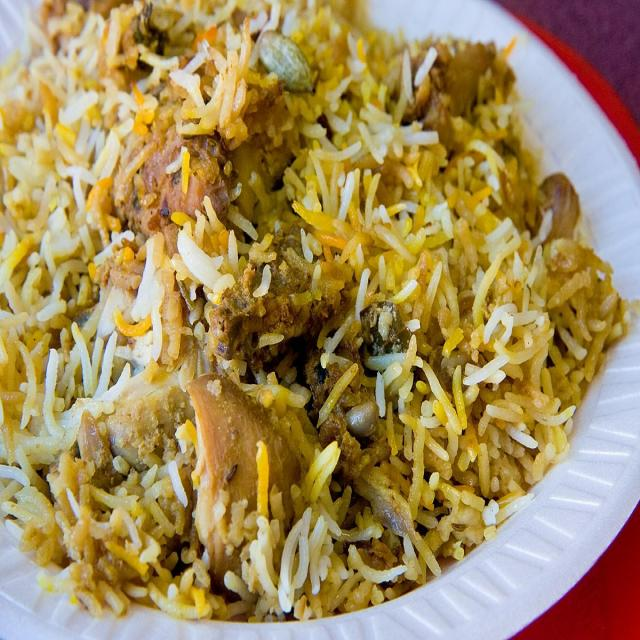Biryani: (0, 0, 628, 620)
